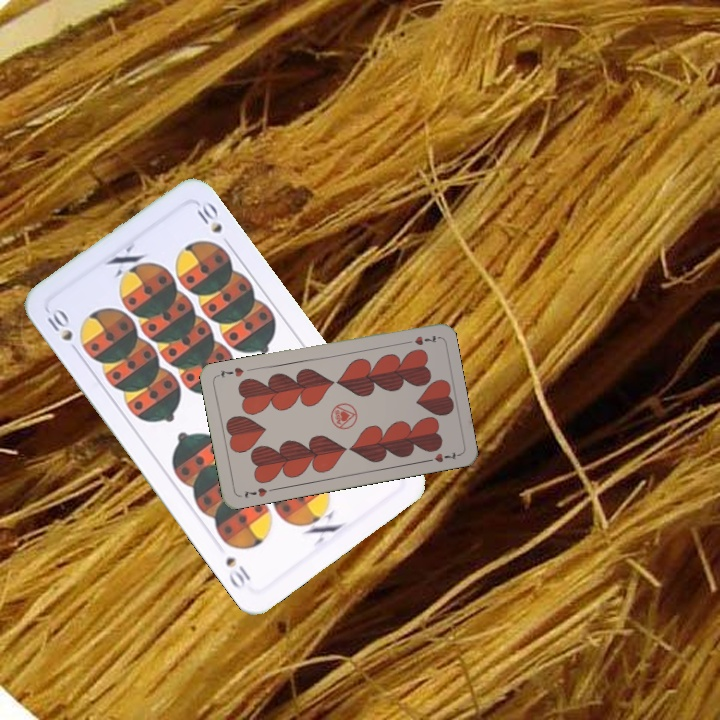H7: (400, 331, 440, 348), (240, 483, 277, 501)
S10: (43, 304, 83, 358)
